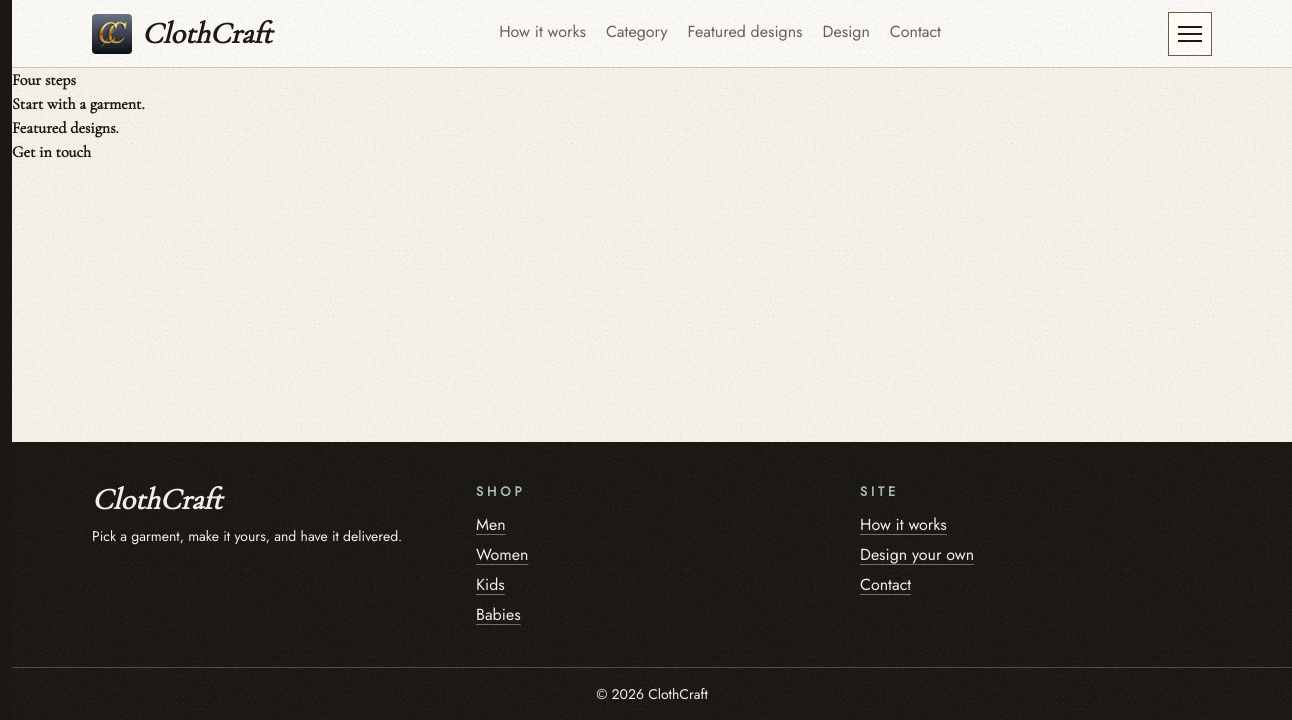
Test: the menu button sits at the right end of the header › it is the last control in the header, after the cart link
What coordinates should you click on to do the following:
click the button with test id "account-menu-button"
I would click on:
 (1190, 34)
Its box is [1168, 12, 1212, 56].
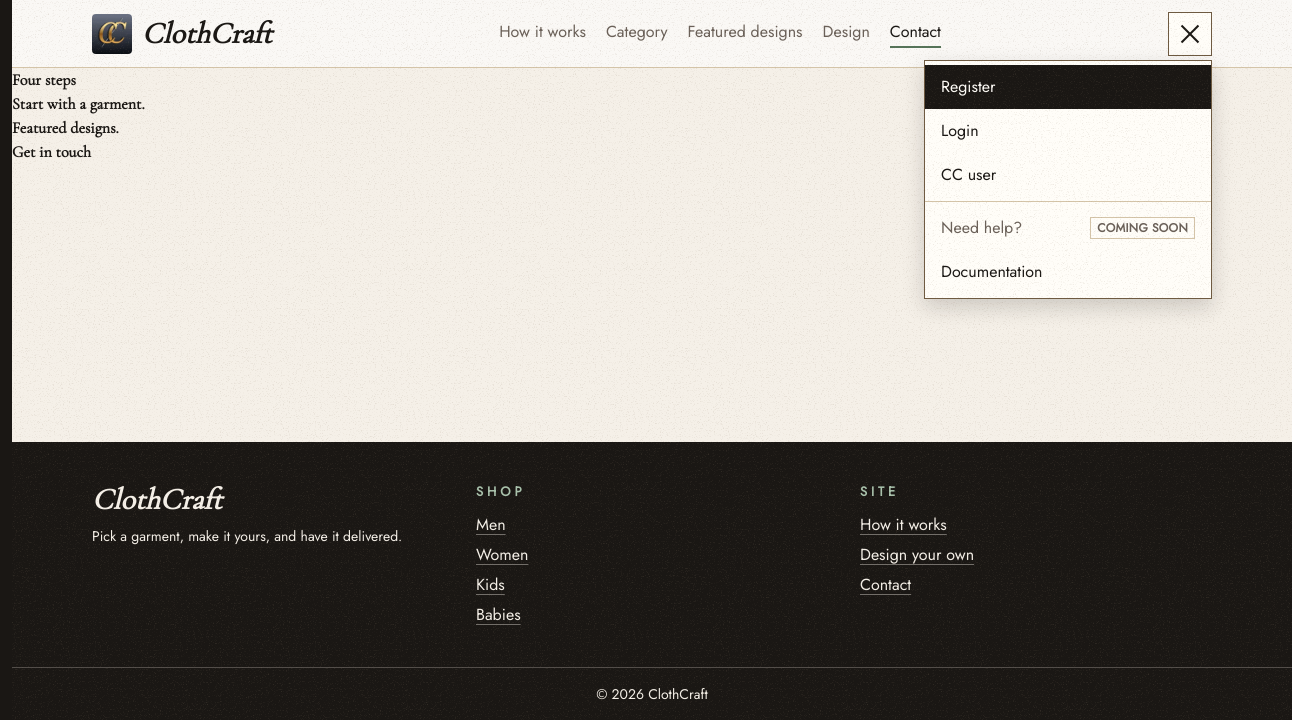
expect the menu is shown: met, box [924, 60, 1212, 298]
